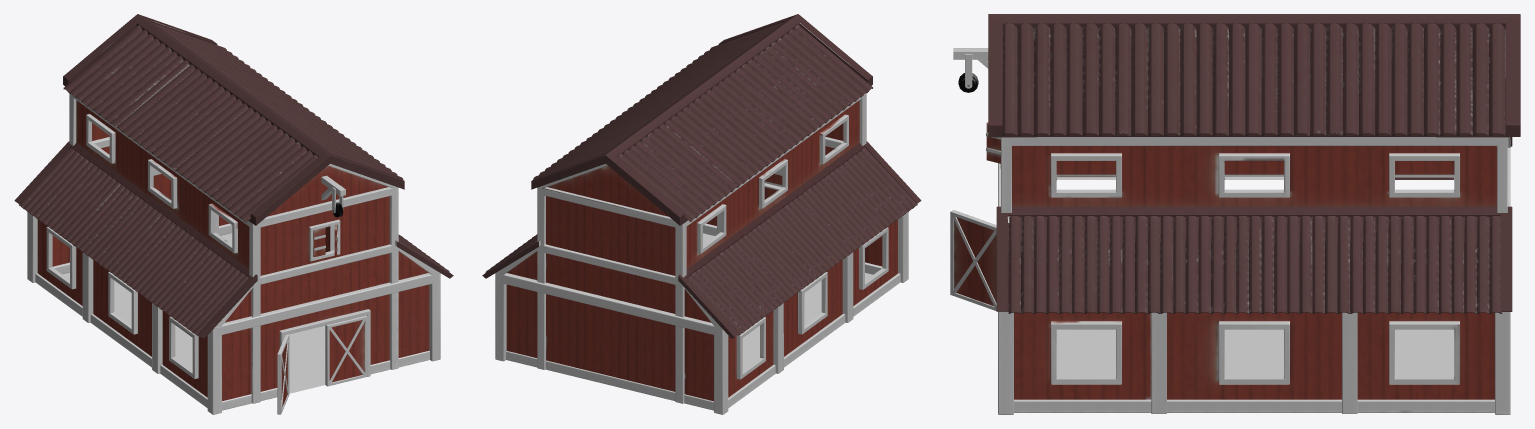
The model's file is barn.gltf.
The picture shows the model from 3 angles, left to right: view 1: azimuth 30°, elevation 25°; view 2: azimuth 150°, elevation 25°; view 3: azimuth 270°, elevation 25°; orthographic projection. The views are drawn at different scales.
Parts seen in each view (by area): view 1: Barn_001; view 2: Barn_001; view 3: Barn_001.
Part boxes in pixels (x1=…): Barn_001: x1=14, y1=14, x2=453, y2=414; Barn_001: x1=482, y1=14, x2=921, y2=414; Barn_001: x1=950, y1=14, x2=1520, y2=414.
Size of the model in its own units: 3.21 by 2.82 by 4.5.
Materials: 1 (1 with a texture image).
